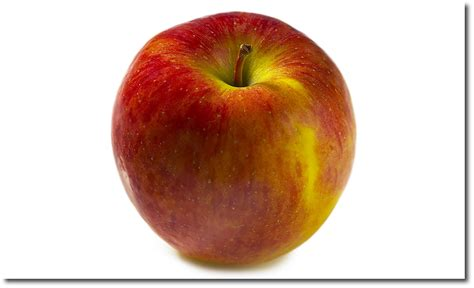apple: (108, 5, 361, 266)
